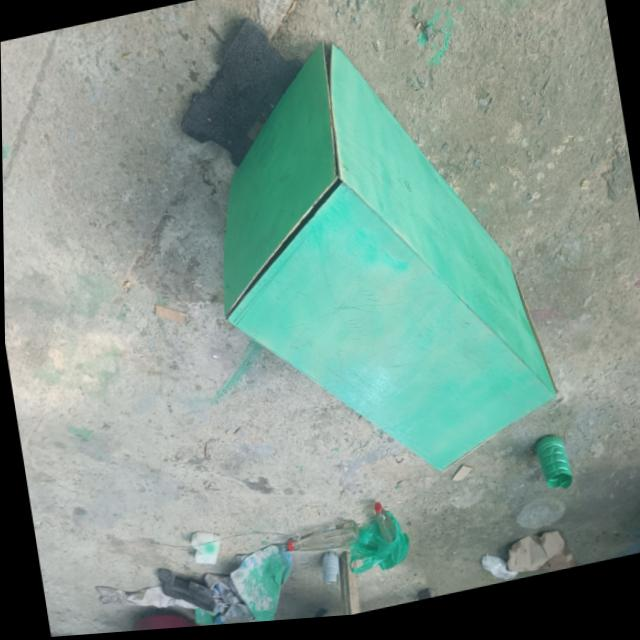green_box: (160, 0, 597, 529)
